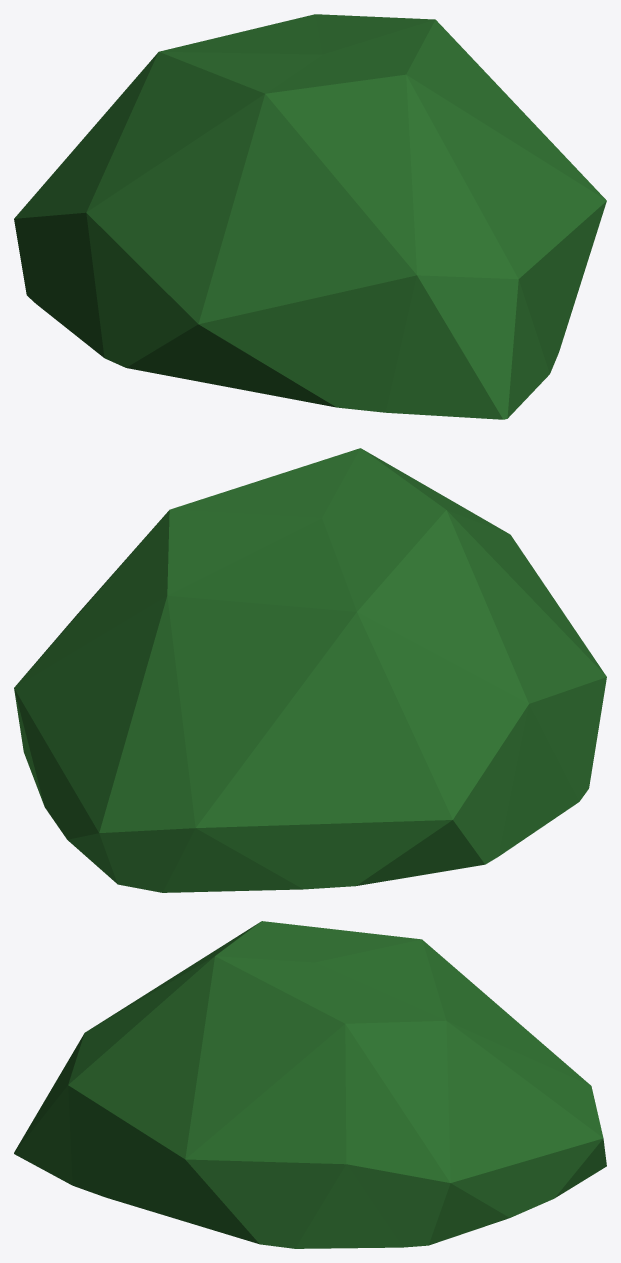
The model's file is free3d-bush.glb.
3 renders of one model, top to bottom at view 1: azimuth 30°, elevation 25°; view 2: azimuth 150°, elevation 25°; view 3: azimuth 270°, elevation 25°, orthographic. The views are drawn at different scales.
Visible parts, largest first — view 1: Bush1.1; view 2: Bush1.1; view 3: Bush1.1.
Part boxes in pixels (x1,y1,x2,y2): Bush1.1: (14, 14, 606, 419); Bush1.1: (14, 448, 606, 892); Bush1.1: (14, 921, 606, 1248).
Size of the model in its own units: 2.61 by 1.35 by 3.46.
